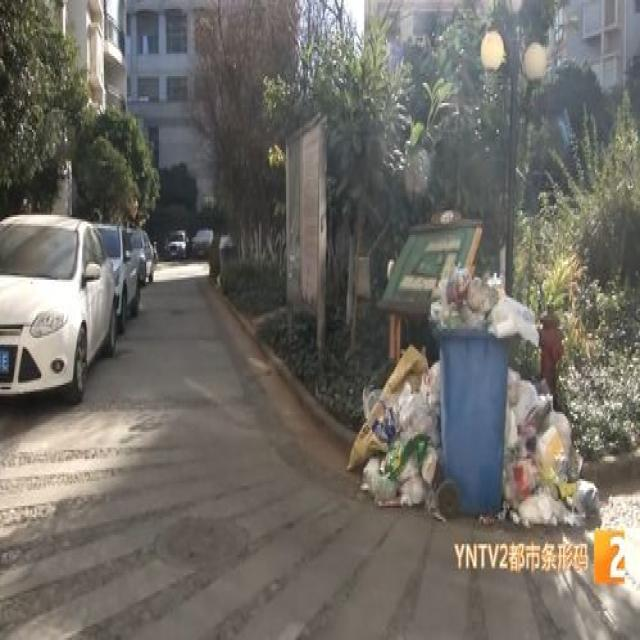garbage: (500, 362, 602, 526), (347, 342, 440, 515)
overflow: (426, 255, 538, 510)
